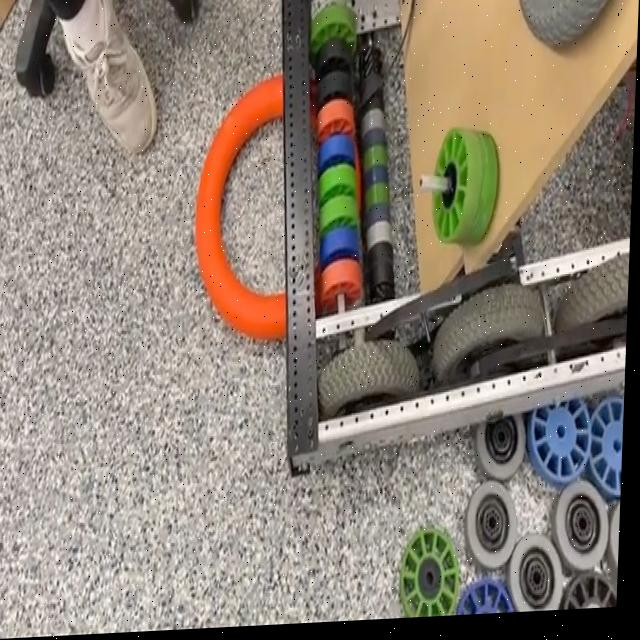note: (191, 67, 375, 352)
